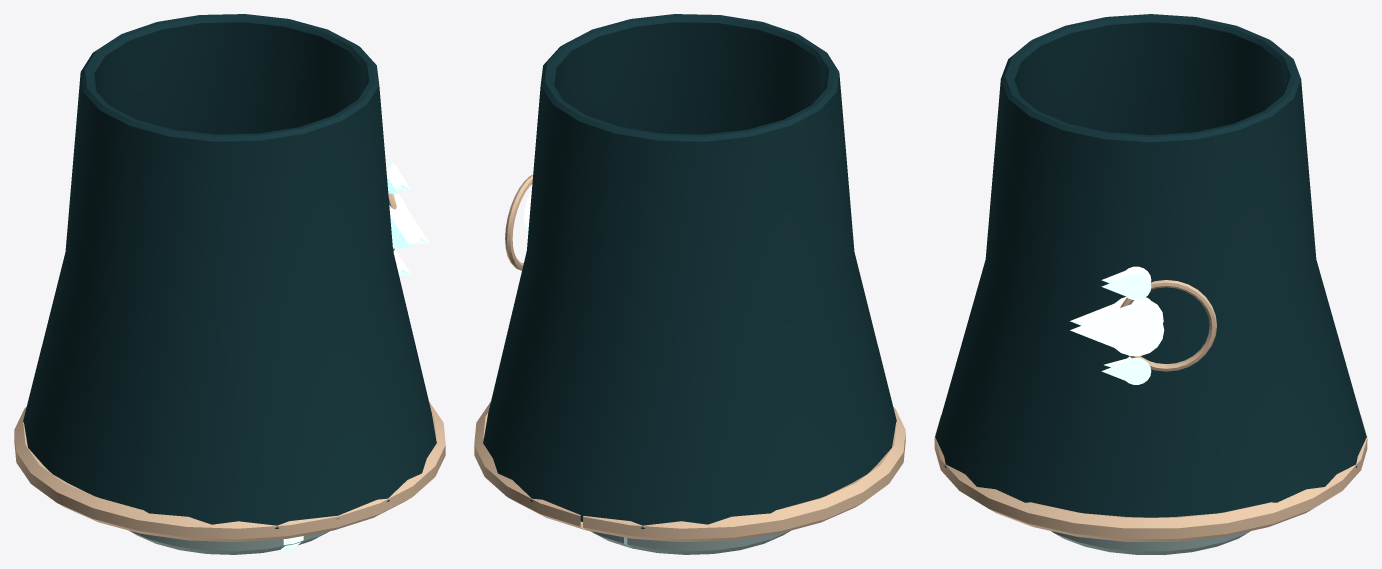
The model's file is asc_hourglass_sage_gloves.glb.
3 renders of one model, left to right at view 1: azimuth 30°, elevation 25°; view 2: azimuth 150°, elevation 25°; view 3: azimuth 270°, elevation 25°, orthographic.
Parts seen in each view (by area): view 1: asc_hourglass_sage_gloves; view 2: asc_hourglass_sage_gloves; view 3: asc_hourglass_sage_gloves.
Boxes of the visible parts, <box> form: asc_hourglass_sage_gloves: <box>14,14,445,554</box>; asc_hourglass_sage_gloves: <box>474,14,905,554</box>; asc_hourglass_sage_gloves: <box>934,14,1367,554</box>.
Size of the model in its own units: 0.221 by 0.2464 by 0.2227.
